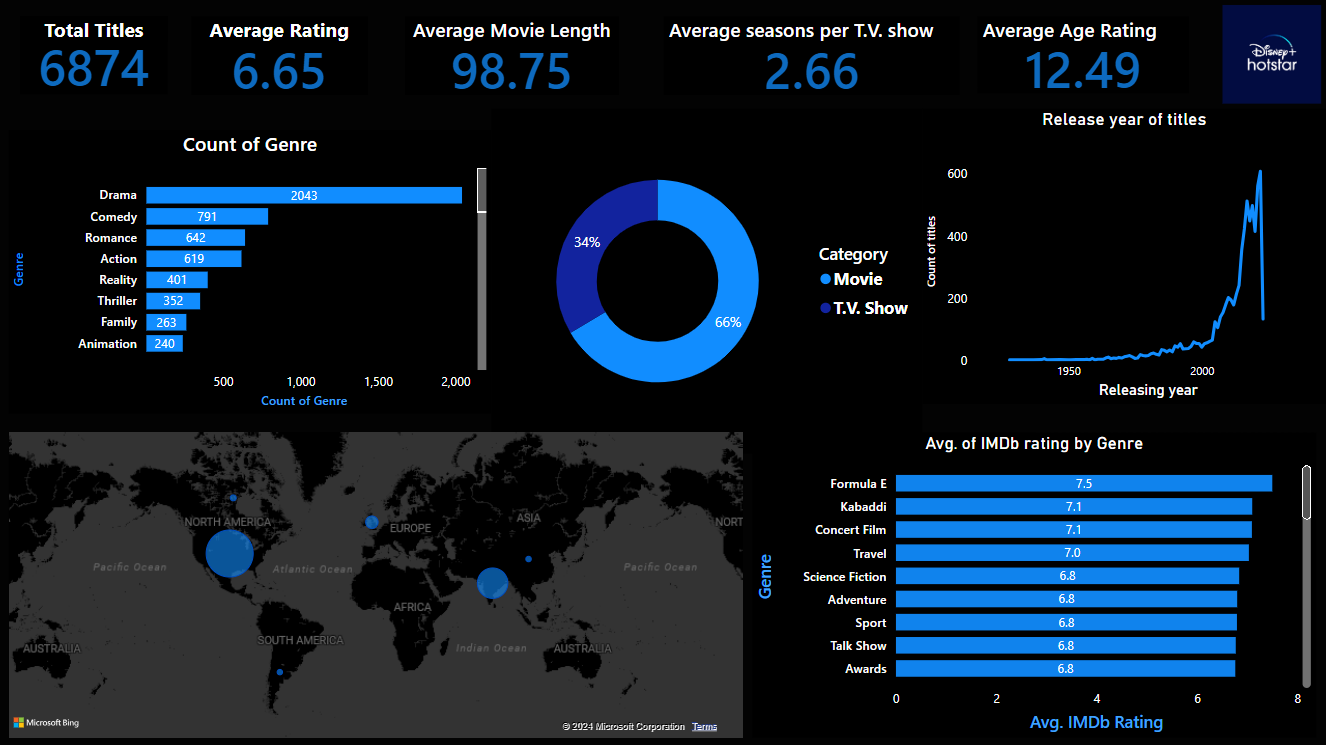

Layout of this report page (visuals, bound fields, positions):
{"tool":"powerbi","page":{"name":"Page 1","canvas":[1280,720],"ordinal":0},"visuals":[{"type":"donutChart","fields":{"Category":["HOTSTAR (4).type"],"Y":["CountNonNull(HOTSTAR (4).type)"]},"box":[474,104.9,416.1,332.9],"z":0},{"type":"image","box":[1175,0,105,105],"z":1000},{"type":"card","title":"Total Titles","fields":{"Values":["CountNonNull(HOTSTAR (4).type)"]},"box":[18.8,16.2,142.5,75],"z":2000},{"type":"card","title":"Average Rating","fields":{"Values":["Avg(HOTSTAR (4).imdb_rating)"]},"box":[184.5,15.7,170.1,76],"z":3000},{"type":"card","title":"Average Movie Length","fields":{"Values":["Avg(HOTSTAR (4).running_time)"]},"box":[390.8,15.7,206.2,76],"z":4000},{"type":"barChart","title":"Avg. of IMDb rating by Genre","fields":{"Category":["HOTSTAR (4).genre"],"Y":["Avg(HOTSTAR (4).imdb_rating)"]},"box":[726,417.3,543.9,294.3],"z":5000},{"type":"barChart","title":"Count of Genre","fields":{"Category":["HOTSTAR (4).genre"],"Y":["CountNonNull(HOTSTAR (4).genre)"]},"box":[8.4,125.4,465.5,273.8],"z":6000},{"type":"lineChart","title":"Release year of titles","fields":{"Y":["CountNonNull(HOTSTAR (4).genre)"],"Category":["HOTSTAR (4).year"]},"box":[890.1,104.9,389.5,284.6],"z":7000},{"type":"card","title":"Average seasons per T.V. show","fields":{"Values":["Avg(HOTSTAR (4).seasons)"]},"box":[640.4,15.7,285.8,76],"z":8000},{"type":"card","title":"Average Age Rating","fields":{"Values":["Avg(HOTSTAR (4).Text After Delimiter)"]},"box":[943.1,15.7,203.8,74.8],"z":9000},{"type":"map","fields":{"Category":["HOTSTAR (4).country"],"Size":["CountNonNull(HOTSTAR (4).type)"]},"box":[8.4,417.3,707.9,294.3],"z":10000}]}

Visuals, with their boxes in screenshot pixels (x1, y1, x2, y2), scaled from the page's 1280x720 canvas onto the 1326x745 screenshot:
donutChart - HOTSTAR (4).type x CountNonNull(HOTSTAR (4).type): (491, 109, 922, 453)
image: (1217, 0, 1325, 109)
"Total Titles" card: (19, 17, 167, 94)
"Average Rating" card: (191, 16, 367, 95)
"Average Movie Length" card: (405, 16, 618, 95)
"Avg. of IMDb rating by Genre" barChart: (752, 432, 1316, 736)
"Count of Genre" barChart: (9, 130, 491, 413)
"Release year of titles" lineChart: (922, 109, 1325, 403)
"Average seasons per T.V. show" card: (663, 16, 959, 95)
"Average Age Rating" card: (977, 16, 1188, 94)
map - HOTSTAR (4).country x CountNonNull(HOTSTAR (4).type): (9, 432, 742, 736)
